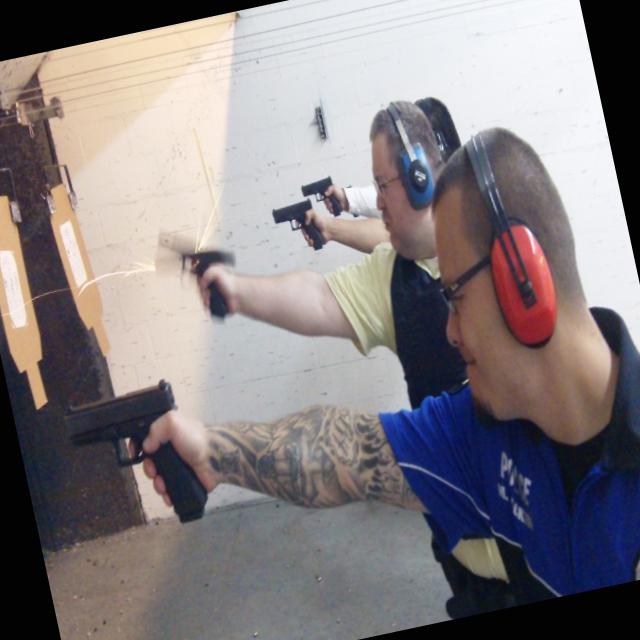handgun: (58, 375, 213, 543), (172, 232, 248, 328), (271, 195, 326, 258), (298, 170, 346, 223)
